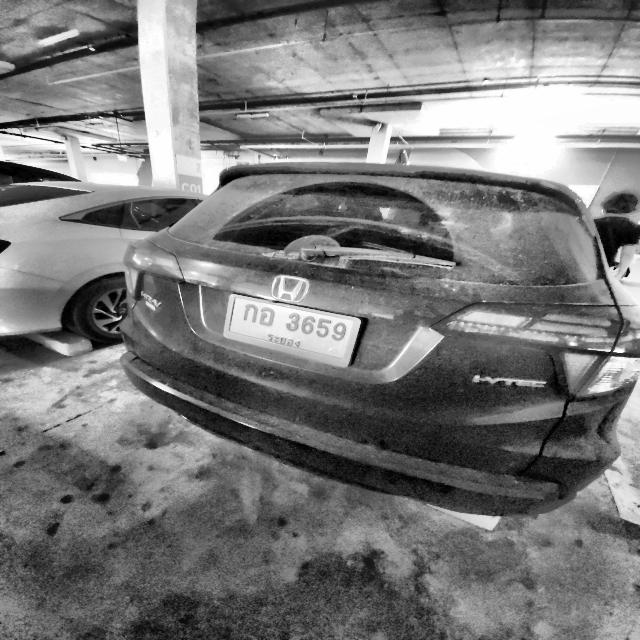license-plate: (230, 297, 355, 361)
